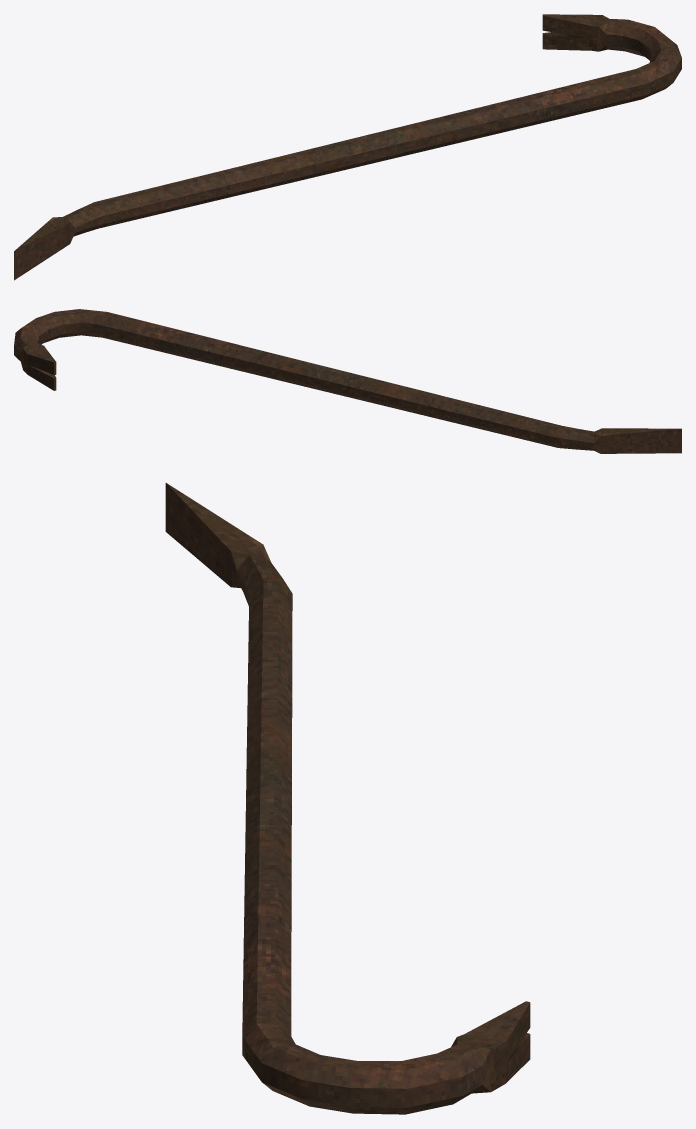
The model's file is rusty_crowbar_mx_1.glb.
The picture shows the model from 3 angles, top to bottom: view 1: azimuth 30°, elevation 25°; view 2: azimuth 150°, elevation 25°; view 3: azimuth 270°, elevation 25°; orthographic projection. The views are drawn at different scales.
Visible parts, largest first — view 1: rusty_crowbar_mx_1; view 2: rusty_crowbar_mx_1; view 3: rusty_crowbar_mx_1.
Part boxes in pixels (x1,y1,x2,y2): rusty_crowbar_mx_1: [14, 14, 681, 280]; rusty_crowbar_mx_1: [14, 309, 681, 453]; rusty_crowbar_mx_1: [165, 483, 530, 1114].
Size of the model in its own units: 1 by 0.045 by 0.2615.
Materials: 1 (1 with a texture image).
